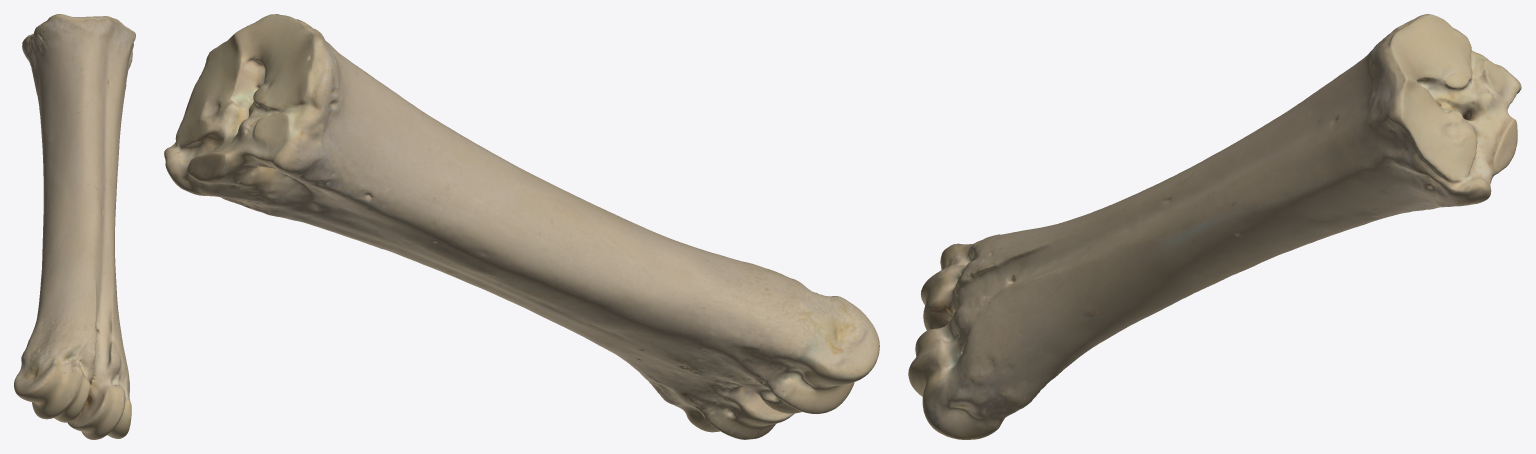
3 renders of one model, left to right at view 1: azimuth 30°, elevation 25°; view 2: azimuth 150°, elevation 25°; view 3: azimuth 270°, elevation 25°, orthographic. The views are drawn at different scales.
Visible parts, largest first — view 1: Os_mettarsale_li_rd.001; view 2: Os_mettarsale_li_rd.001; view 3: Os_mettarsale_li_rd.001.
Boxes of the visible parts, x1=… form: Os_mettarsale_li_rd.001: x1=14, y1=14, x2=135, y2=439; Os_mettarsale_li_rd.001: x1=164, y1=14, x2=879, y2=439; Os_mettarsale_li_rd.001: x1=908, y1=14, x2=1521, y2=439.
Bounding box in the file's own units: 13445 × 15489 × 17411.
Materials: 1 (1 with a texture image).
